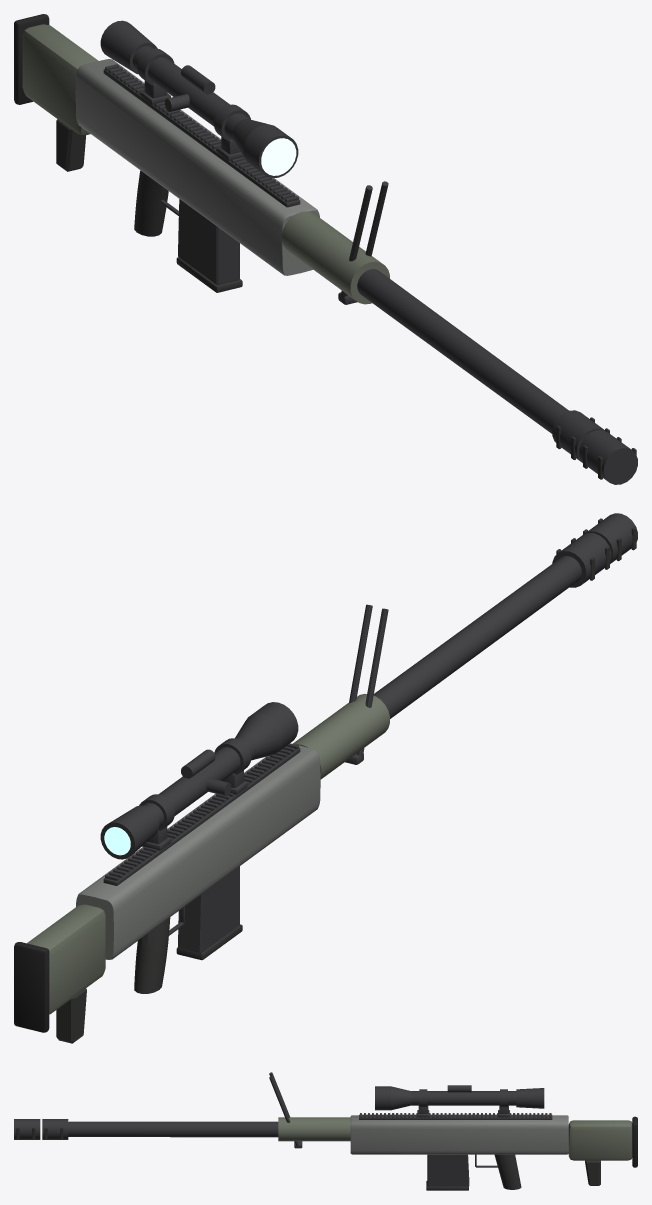
File: ptarmigan.glb
3 renders of one model, top to bottom at view 1: azimuth 30°, elevation 25°; view 2: azimuth 150°, elevation 25°; view 3: azimuth 270°, elevation 25°, orthographic. The views are drawn at different scales.
Visible parts, largest first — view 1: Body; view 2: Body; view 3: Body.
Boxes of the visible parts, left/top/right/bottom form: Body: left=14, top=14, right=637, bottom=484; Body: left=14, top=513, right=637, bottom=1043; Body: left=14, top=1072, right=637, bottom=1190.
Size of the model in its own units: 0.075 by 0.3084 by 1.55.
